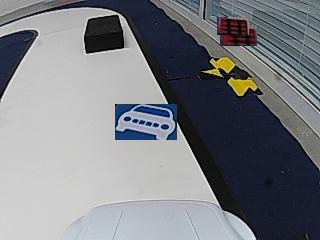block: (84, 15, 123, 53)
